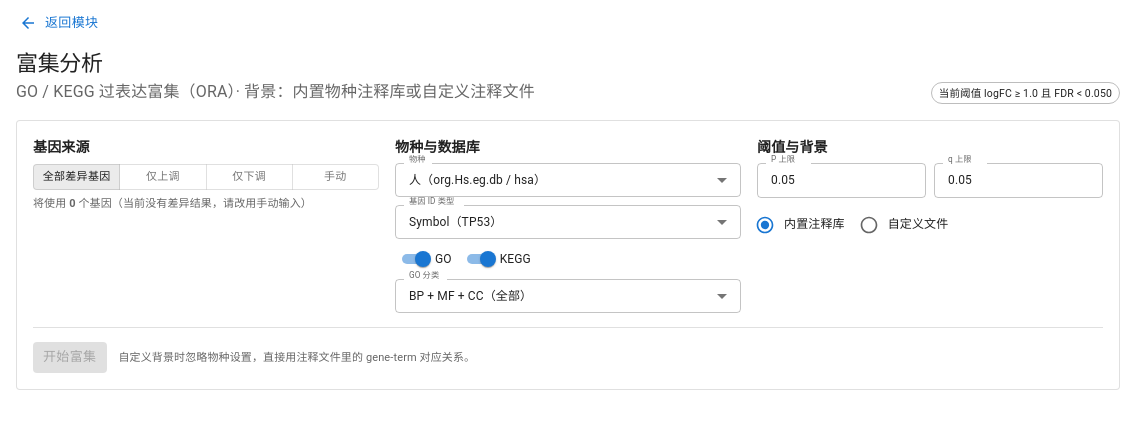
Test case: EnrichPage 物种 / 背景联动 › 自定义背景下 KEGG 开关显示为「通路」
Expected: the text "KEGG" is shown, top-left (500, 251), bottom-right (531, 268)
Step 1. Click the radio button labelled "自定义文件" → (904, 225), box top-left (859, 215), bottom-right (948, 235)
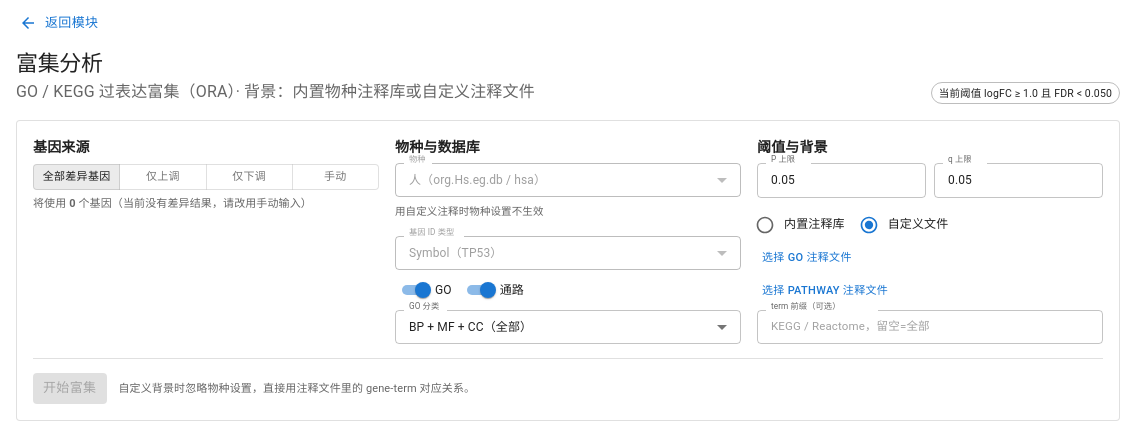
Now the text "通路" is shown, box top-left (500, 282), bottom-right (524, 299)
